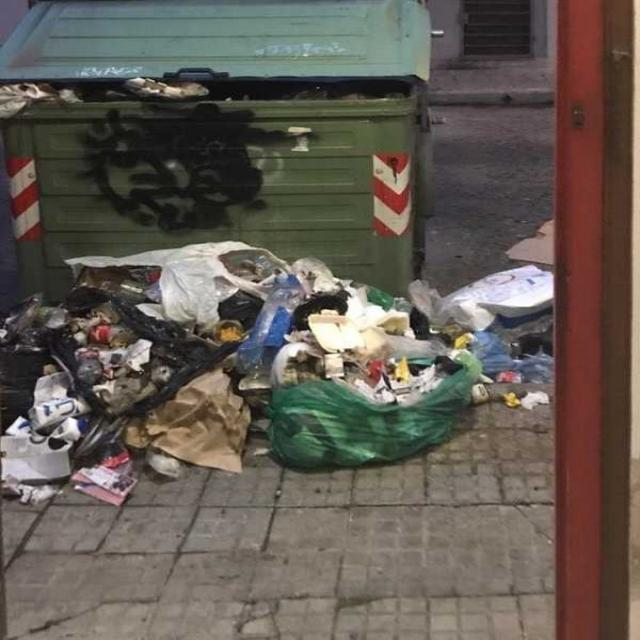garbage: (0, 240, 474, 510), (475, 208, 560, 458), (2, 80, 439, 108)
